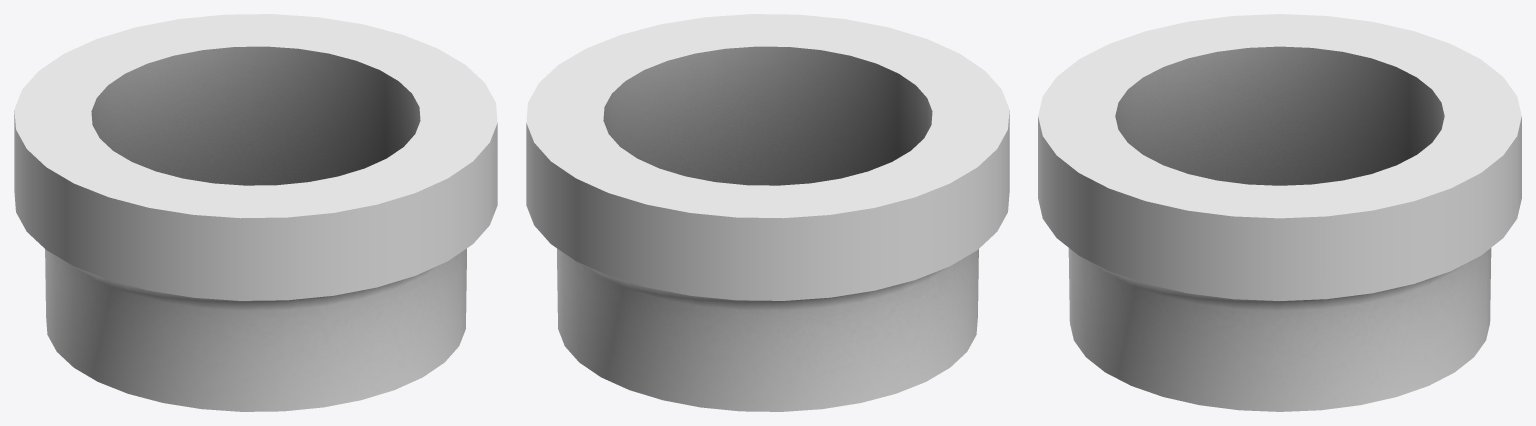
The model's file is PipeModel.fbx.
The picture shows the model from 3 angles, left to right: view 1: azimuth 30°, elevation 25°; view 2: azimuth 150°, elevation 25°; view 3: azimuth 270°, elevation 25°; orthographic projection.
Parts seen in each view (by area): view 1: Warp Pipe; view 2: Warp Pipe; view 3: Warp Pipe.
Part boxes in pixels (x1=…): Warp Pipe: x1=14, y1=14, x2=497, y2=411; Warp Pipe: x1=526, y1=14, x2=1009, y2=411; Warp Pipe: x1=1038, y1=14, x2=1521, y2=411.
Bounding box in the file's own units: 628 × 297 × 628.
1 material, 1 textured.
